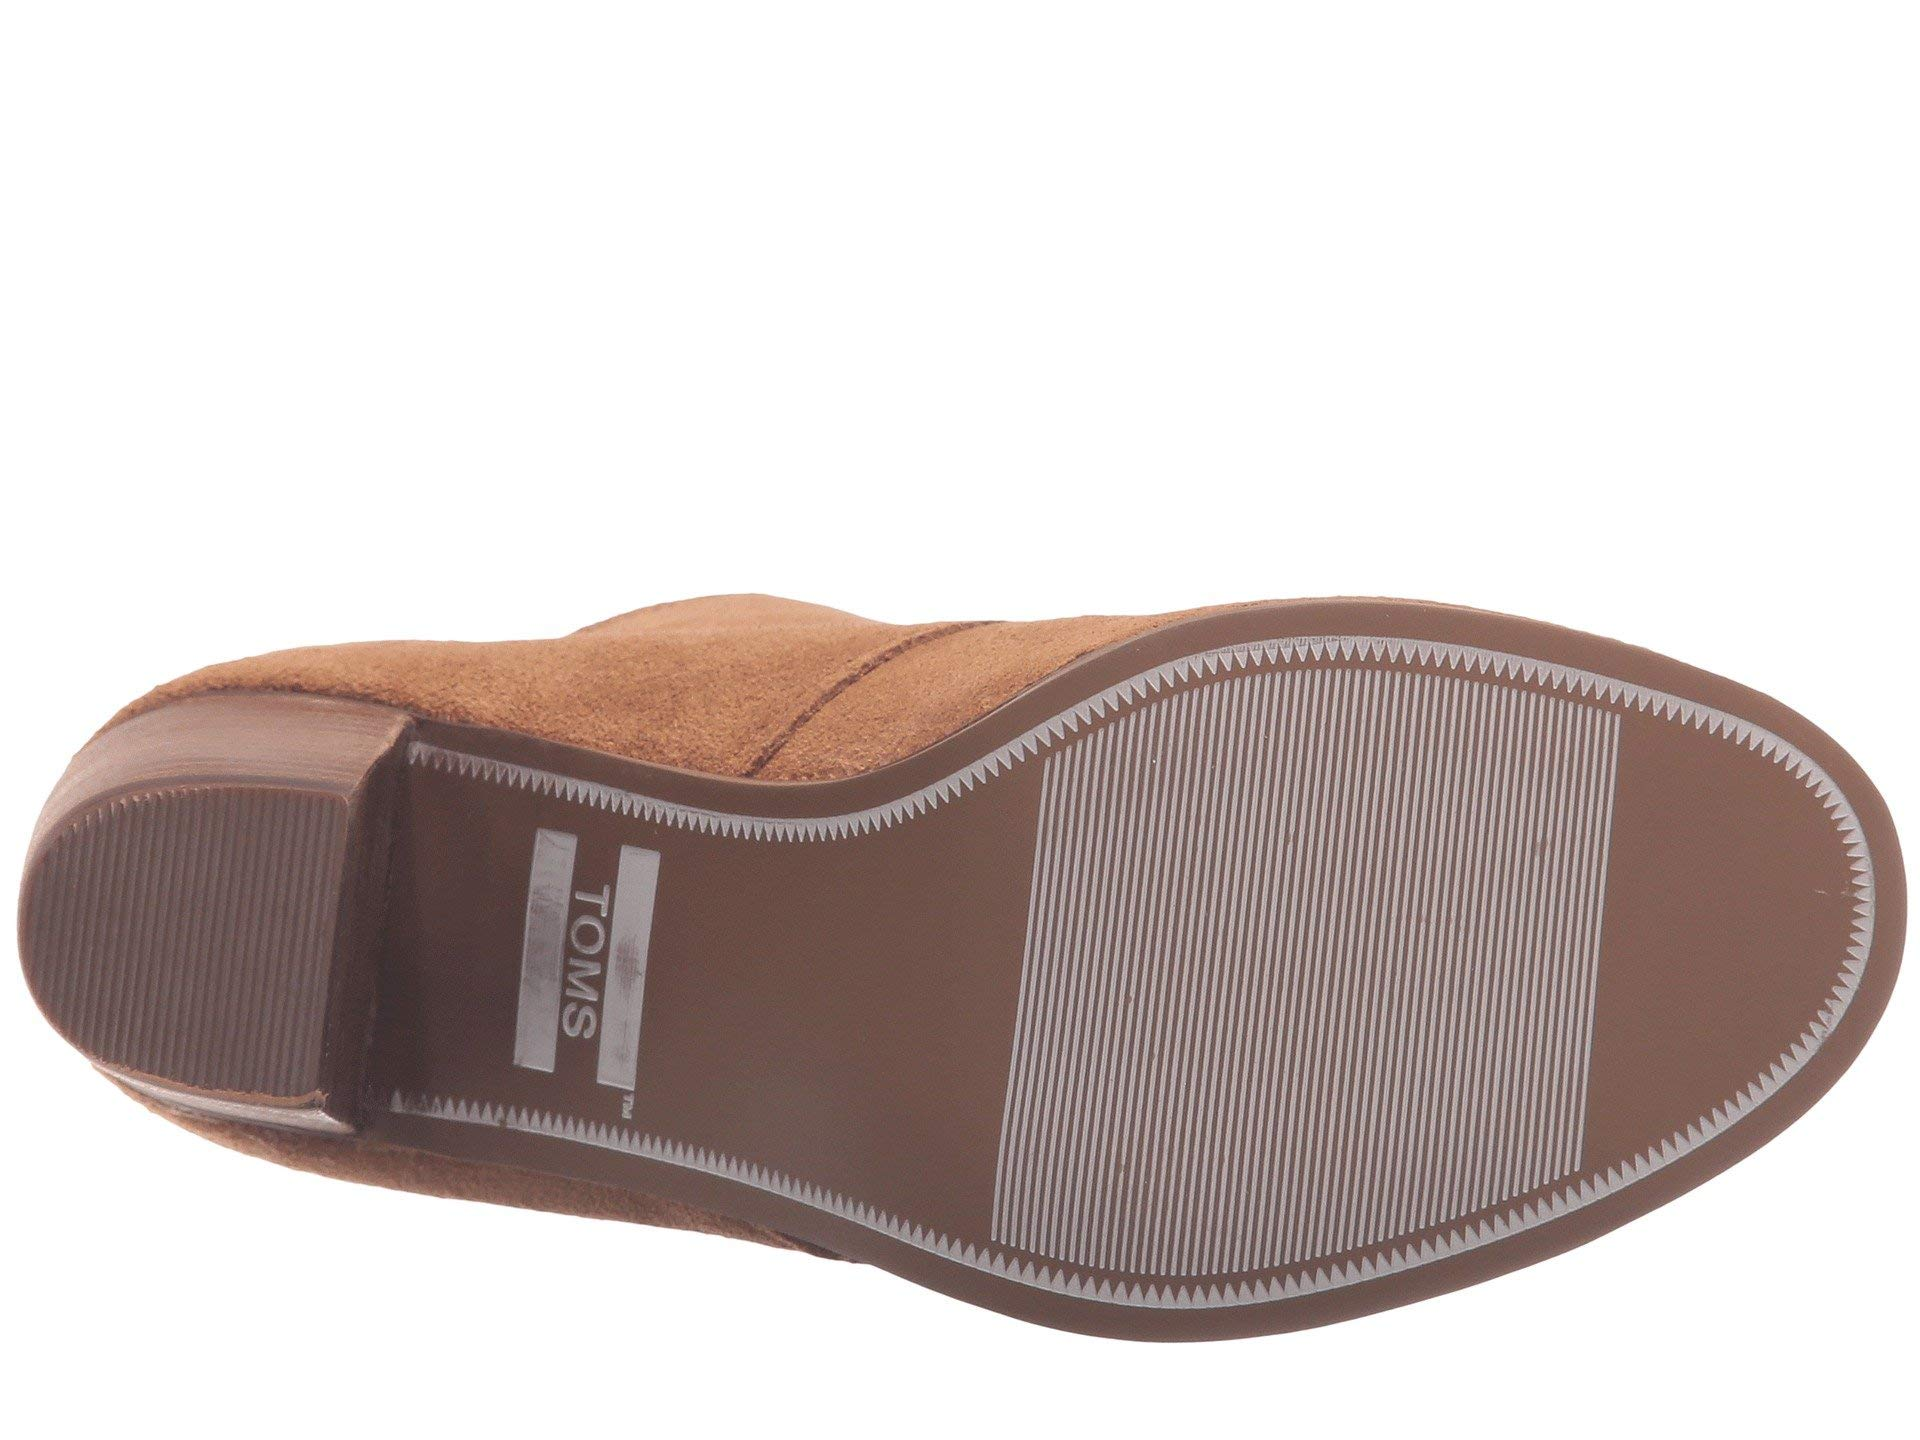circle: (497, 815, 656, 1094)
line: (1132, 723, 1485, 1196), (1742, 731, 1890, 1088), (497, 815, 656, 1094), (85, 838, 275, 1030)
quad: (497, 815, 656, 1094)
text: (497, 815, 656, 1094)
triangle: (1742, 731, 1890, 1088)
